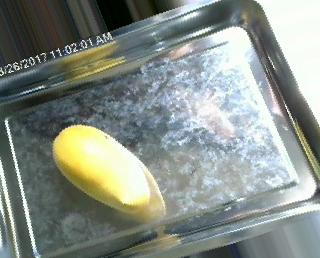Mango: (46, 118, 155, 218)
